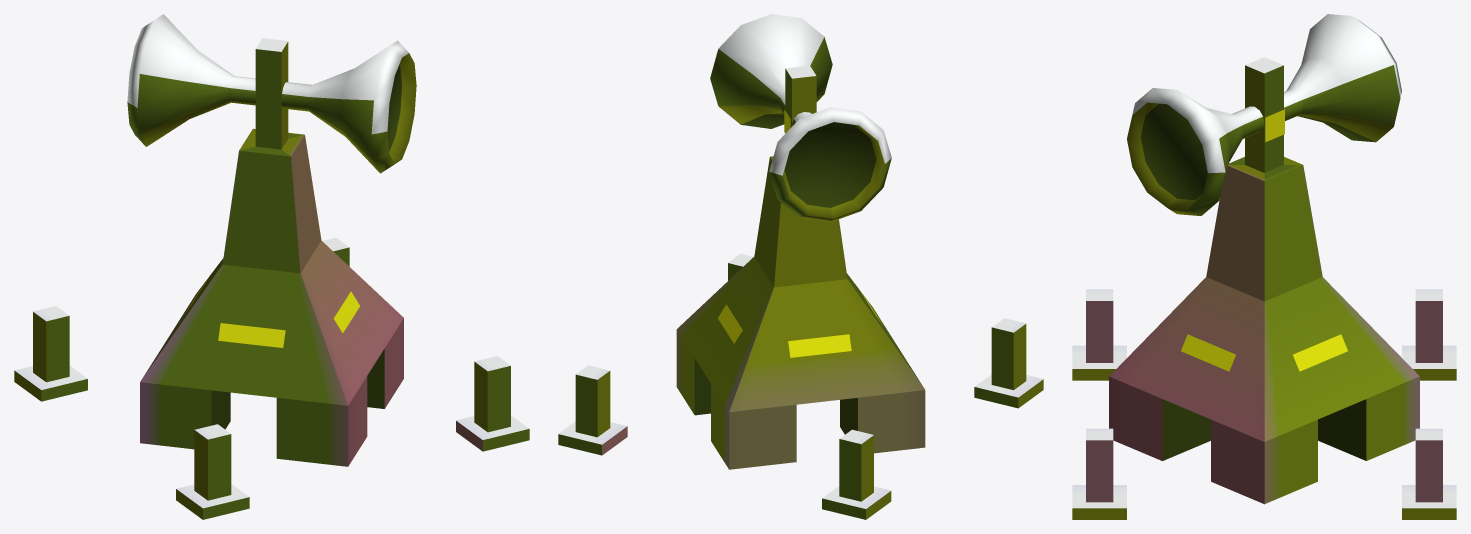
File: CommTower.AcidRain.Snow.glb
The picture shows the model from 3 angles, left to right: view 1: azimuth 30°, elevation 25°; view 2: azimuth 150°, elevation 25°; view 3: azimuth 270°, elevation 25°; orthographic projection. The views are drawn at different scales.
Visible parts, largest first — view 1: CommTower.AcidRain.Snow; view 2: CommTower.AcidRain.Snow; view 3: CommTower.AcidRain.Snow.
Part boxes in pixels (x1,y1,x2,y2): CommTower.AcidRain.Snow: (14, 14, 529, 519); CommTower.AcidRain.Snow: (558, 14, 1043, 519); CommTower.AcidRain.Snow: (1072, 14, 1456, 519).
Size of the model in its own units: 2.8 by 3.1 by 2.8.
Materials: 2 (1 with a texture image).
